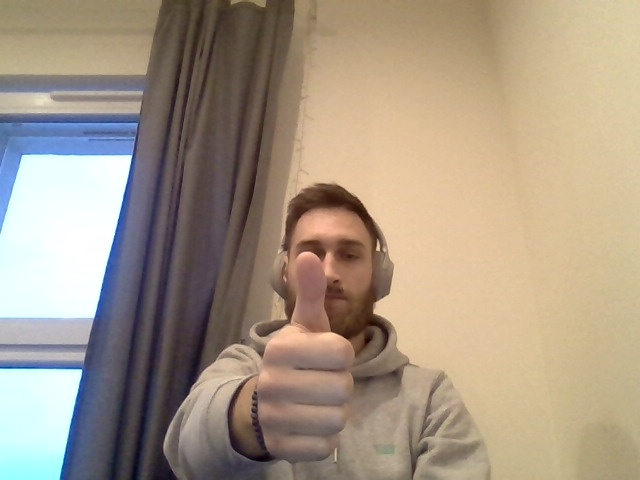ThumbsUp: (255, 251, 354, 463)
